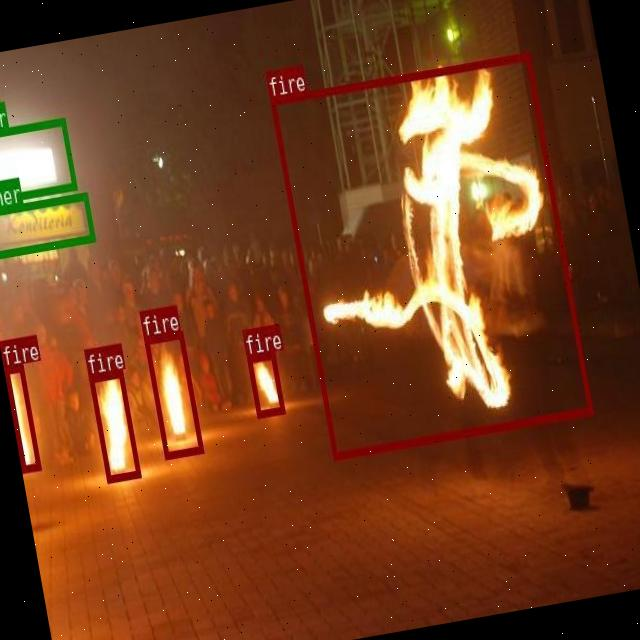fire: (269, 52, 592, 459), (143, 329, 202, 458), (88, 370, 140, 482), (3, 362, 40, 472), (246, 349, 284, 416)
